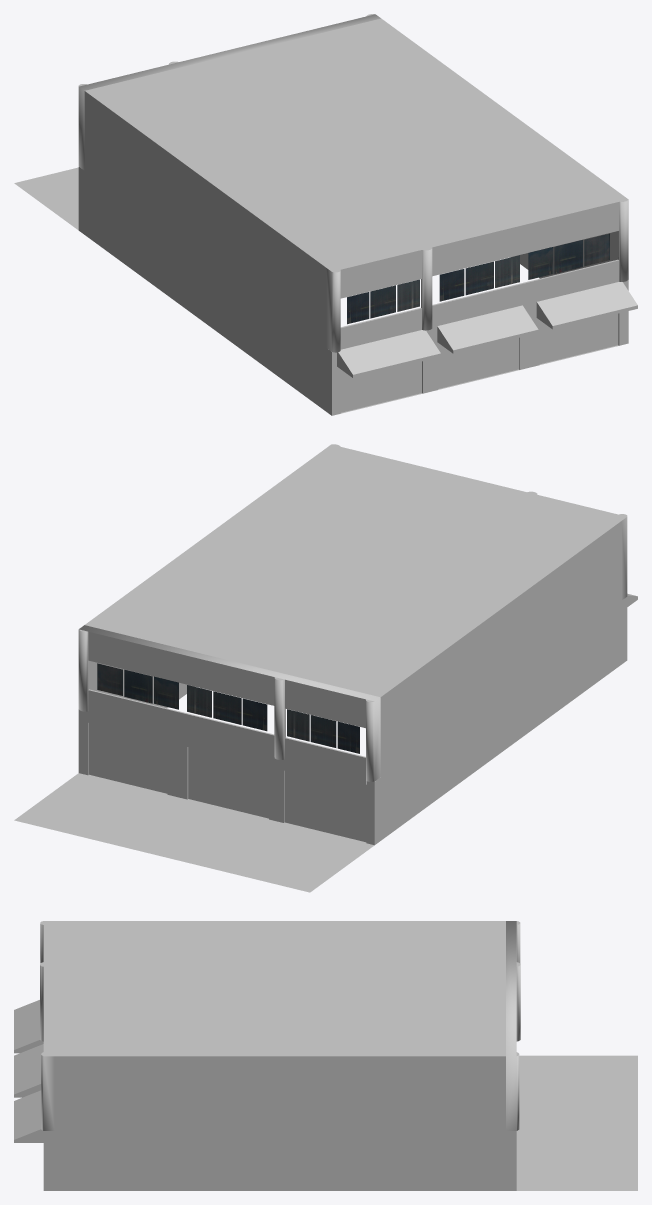
3 views of the same model, one above another, from view 1: azimuth 30°, elevation 25°; view 2: azimuth 150°, elevation 25°; view 3: azimuth 270°, elevation 25° (orthographic). The views are drawn at different scales.
Visible parts, largest first — view 1: BB-032; view 2: BB-032; view 3: BB-032.
Boxes of the visible parts, box(x1,y1,x2,y2) form: BB-032: box(14, 14, 637, 415); BB-032: box(14, 444, 637, 892); BB-032: box(14, 921, 637, 1190).
Size of what is drawn, in the model's own units: 19.4 by 9 by 37.8.
